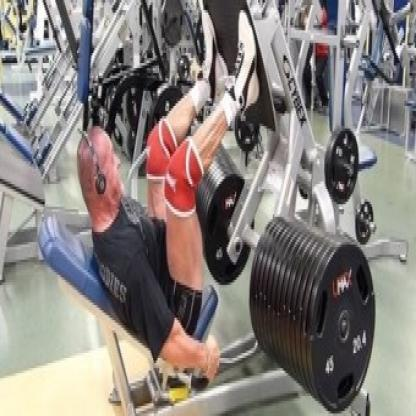leg press: (29, 0, 400, 416)
